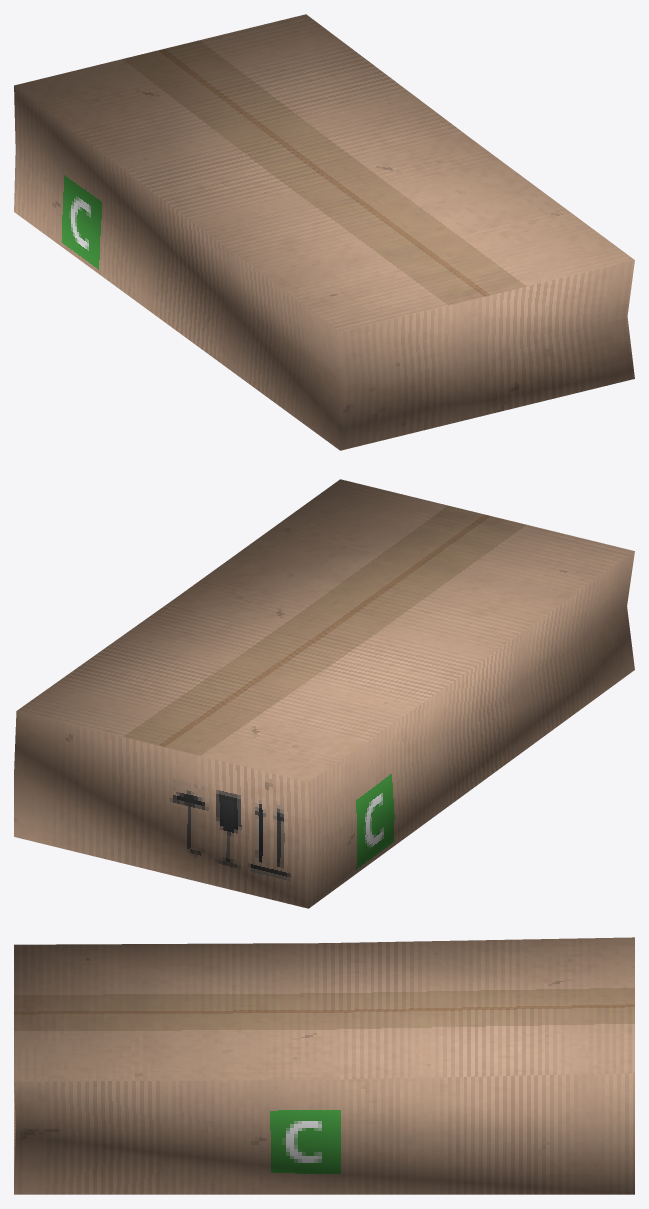
Rendered from Karton2.gltf.
3 renders of one model, top to bottom at view 1: azimuth 30°, elevation 25°; view 2: azimuth 150°, elevation 25°; view 3: azimuth 270°, elevation 25°, orthographic. The views are drawn at different scales.
Parts seen in each view (by area): view 1: Karton_2; view 2: Karton_2; view 3: Karton_2.
Boxes of the visible parts, x1,y1,x2,y2 form: Karton_2: [14, 14, 634, 450]; Karton_2: [14, 479, 634, 908]; Karton_2: [14, 937, 634, 1194].
Size of the model in its own units: 0.4282 by 0.1755 by 0.8212.
1 material, 1 textured.
